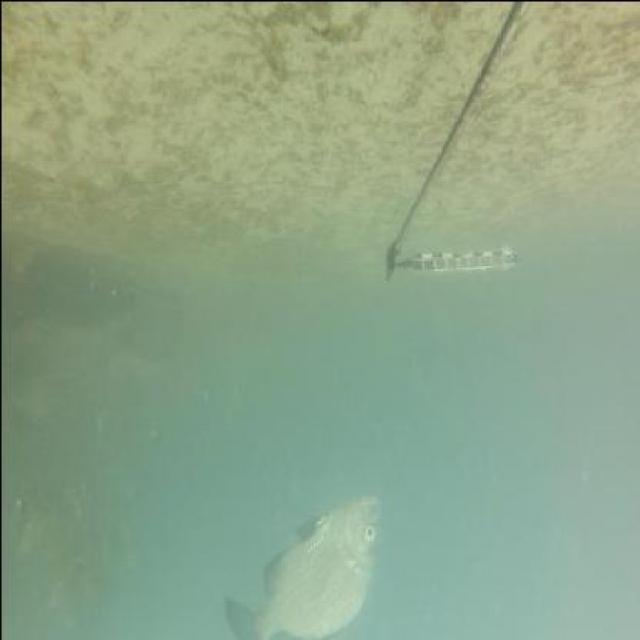acanthopagrus_palmaris: (217, 484, 380, 638)
